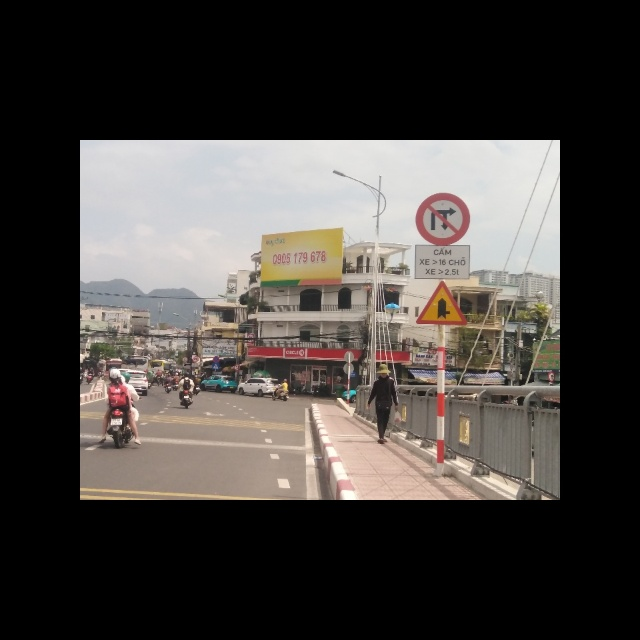Cấm quay đầu và rẽ phải: (414, 192, 472, 248)
Giao nhau với đường không ưu tiên: (417, 280, 466, 325)
